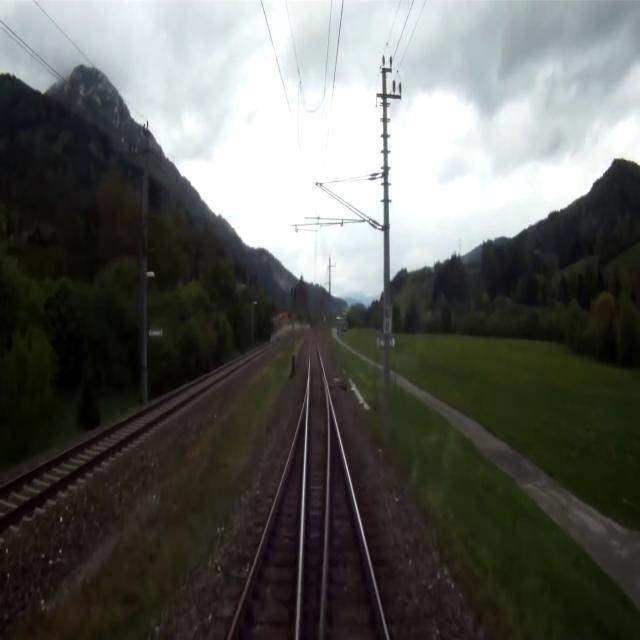rail-track: (0, 363, 237, 515), (232, 401, 306, 639), (324, 407, 386, 639), (300, 331, 326, 639)
